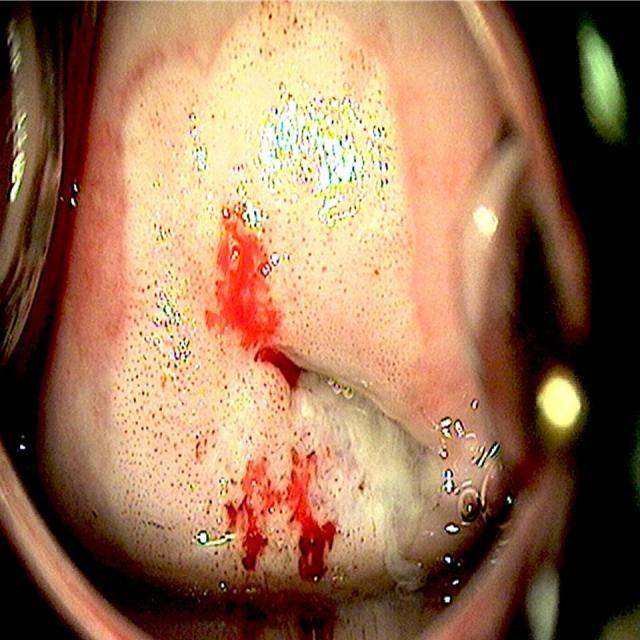cervical_lesion: (105, 0, 479, 615)
